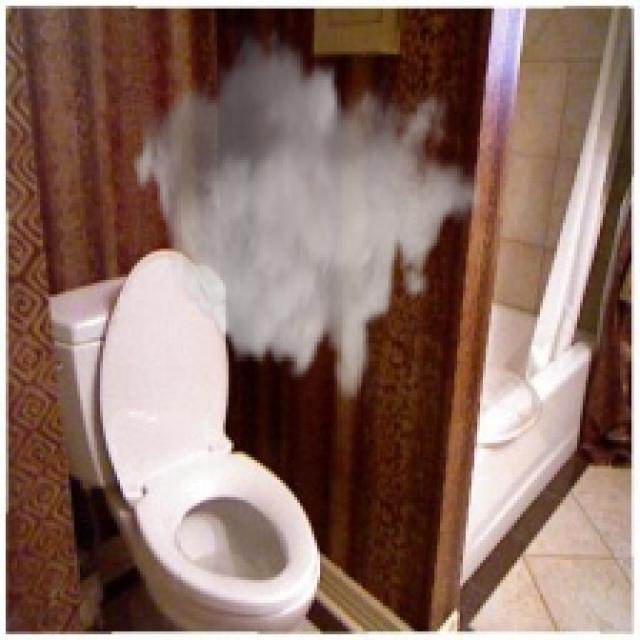Smoke: (128, 20, 483, 403)
